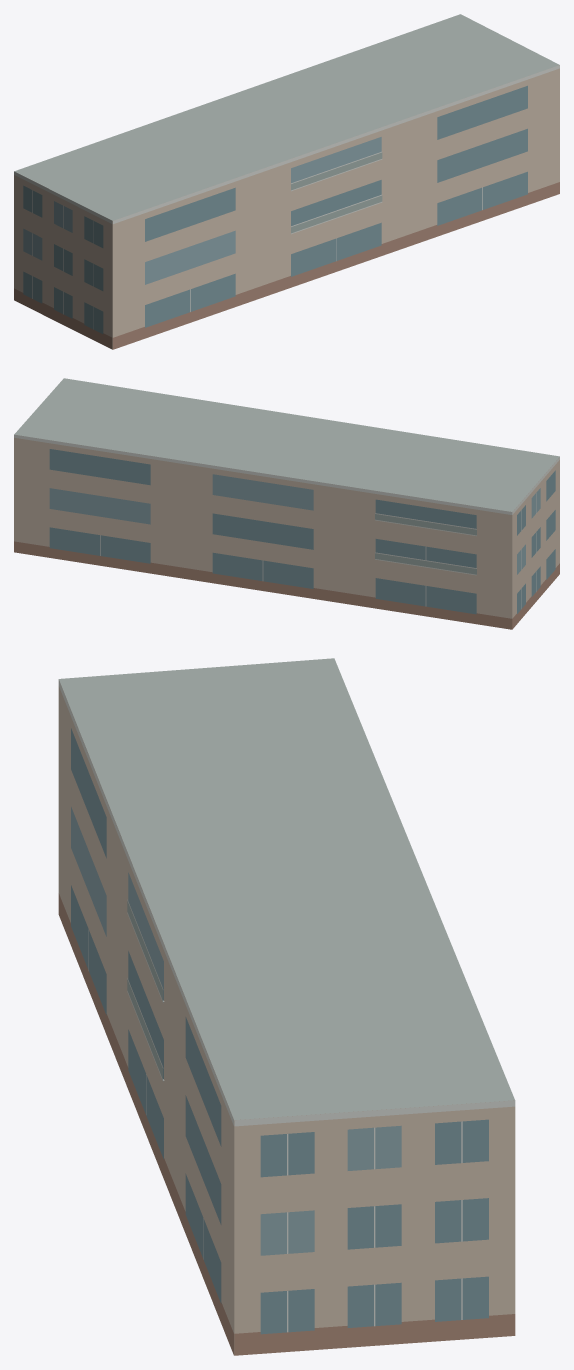
Rendered from survey-upis-32753544.glb.
3 renders of one model, top to bottom at view 1: azimuth 30°, elevation 25°; view 2: azimuth 150°, elevation 25°; view 3: azimuth 270°, elevation 25°, orthographic. The views are drawn at different scales.
Visible parts, largest first — view 1: survey-upis-32753544.tmp; view 2: survey-upis-32753544.tmp; view 3: survey-upis-32753544.tmp.
Boxes of the visible parts, box(x1,y1,x2,y2) form: survey-upis-32753544.tmp: box(14, 14, 559, 349); survey-upis-32753544.tmp: box(14, 378, 559, 629); survey-upis-32753544.tmp: box(58, 658, 515, 1355).
Size of the model in its own units: 38.51 by 9.15 by 16.09.
